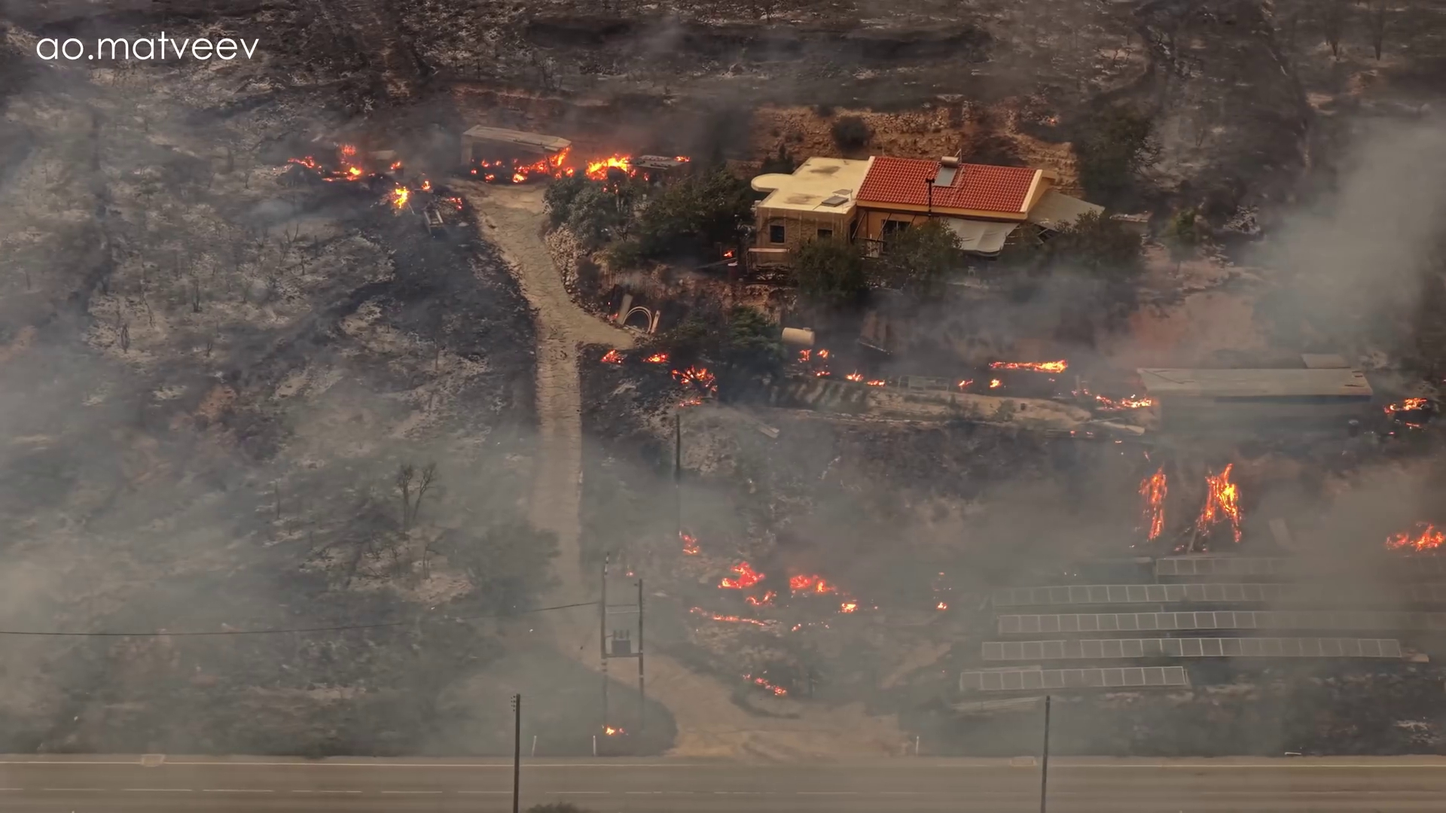forest_fire: (469, 147, 689, 182), (1195, 463, 1240, 542), (288, 145, 371, 180), (1139, 466, 1167, 540), (689, 607, 776, 627), (1384, 522, 1445, 550), (719, 560, 764, 588), (670, 365, 714, 392), (989, 359, 1067, 372), (742, 673, 786, 696), (1094, 394, 1153, 410), (789, 574, 837, 593), (679, 531, 700, 555), (745, 590, 776, 605), (390, 185, 409, 209), (599, 348, 624, 364), (642, 352, 669, 363), (603, 725, 625, 735), (956, 378, 973, 388), (987, 378, 1002, 388), (844, 372, 864, 379)
